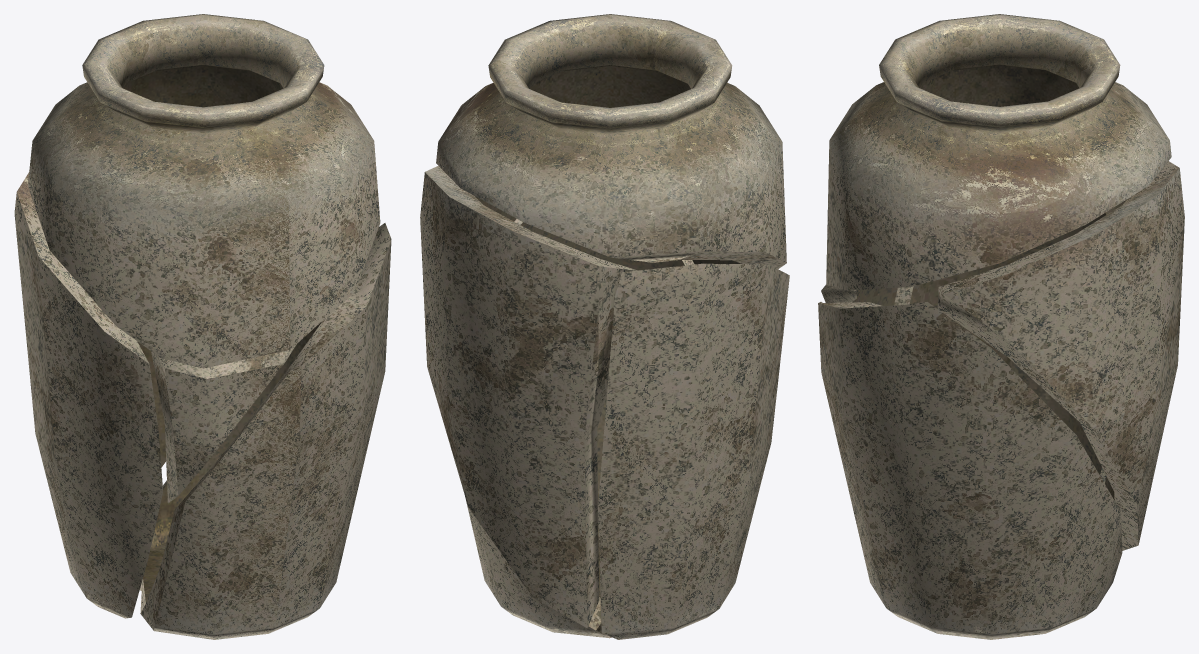
The model's file is pottery_basic_small_shattered.dae.
3 renders of one model, left to right at view 1: azimuth 30°, elevation 25°; view 2: azimuth 150°, elevation 25°; view 3: azimuth 270°, elevation 25°, orthographic.
Visible parts, largest first — view 1: top, bottom, large, small, med; view 2: top, med, large, bottom; view 3: bottom, top, med, large, small.
Part boxes in pixels (box(x1,y1,x2,y2)): top: box(28, 14, 380, 368); bottom: box(140, 223, 391, 639); large: box(14, 172, 163, 618); small: box(151, 344, 296, 503); med: box(137, 341, 166, 467); top: box(436, 14, 786, 268); med: box(420, 166, 637, 628); large: box(598, 263, 789, 639); bottom: box(465, 219, 694, 638); bottom: box(818, 302, 1122, 639); top: box(826, 14, 1171, 290); med: box(937, 161, 1184, 550); large: box(894, 213, 1106, 483); small: box(821, 285, 897, 305).
Size of the model in its own units: 0.4556 by 0.7216 by 0.4536.
